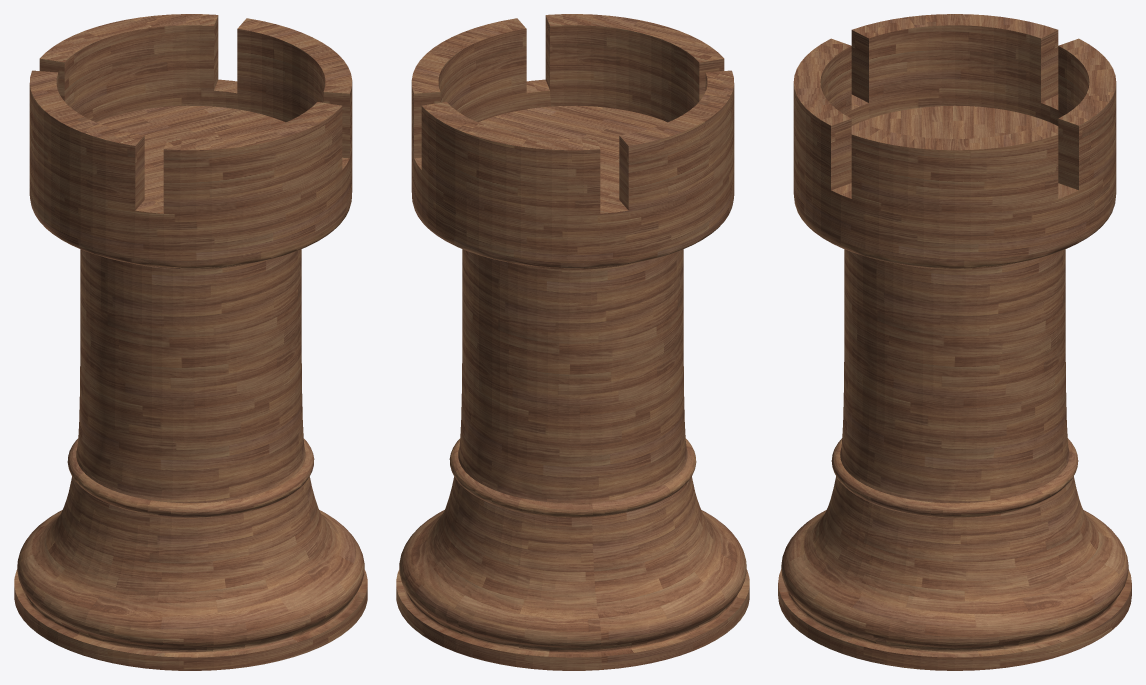
File: model_rook.glb
3 renders of one model, left to right at view 1: azimuth 30°, elevation 25°; view 2: azimuth 150°, elevation 25°; view 3: azimuth 270°, elevation 25°, orthographic.
Visible parts, largest first — view 1: ROOK; view 2: ROOK; view 3: ROOK.
Part boxes in pixels (left/top/right/bottom): ROOK: left=14, top=14, right=367, bottom=670; ROOK: left=396, top=14, right=749, bottom=670; ROOK: left=778, top=14, right=1131, bottom=670.
Size of the model in its own units: 0.8335 by 1.34 by 0.8335.
1 material, 1 textured.
